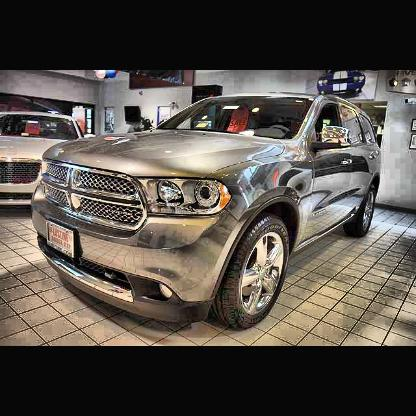Dodge Durango SUV 2012: (32, 93, 384, 332)
